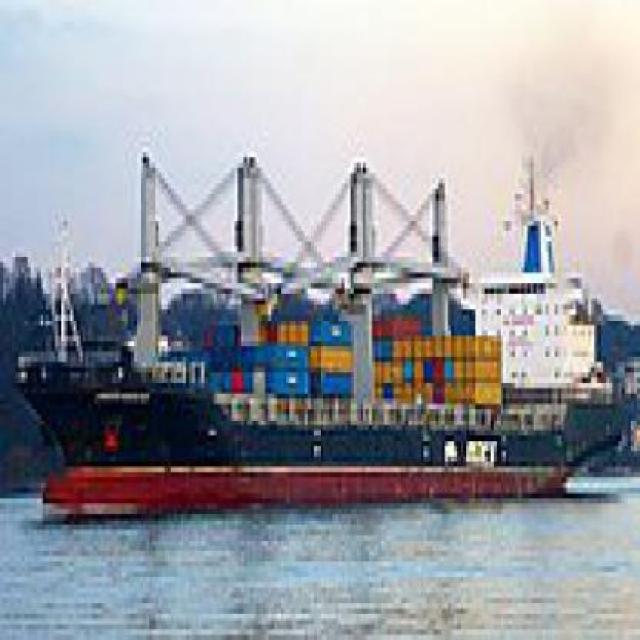container: (10, 138, 632, 527)
